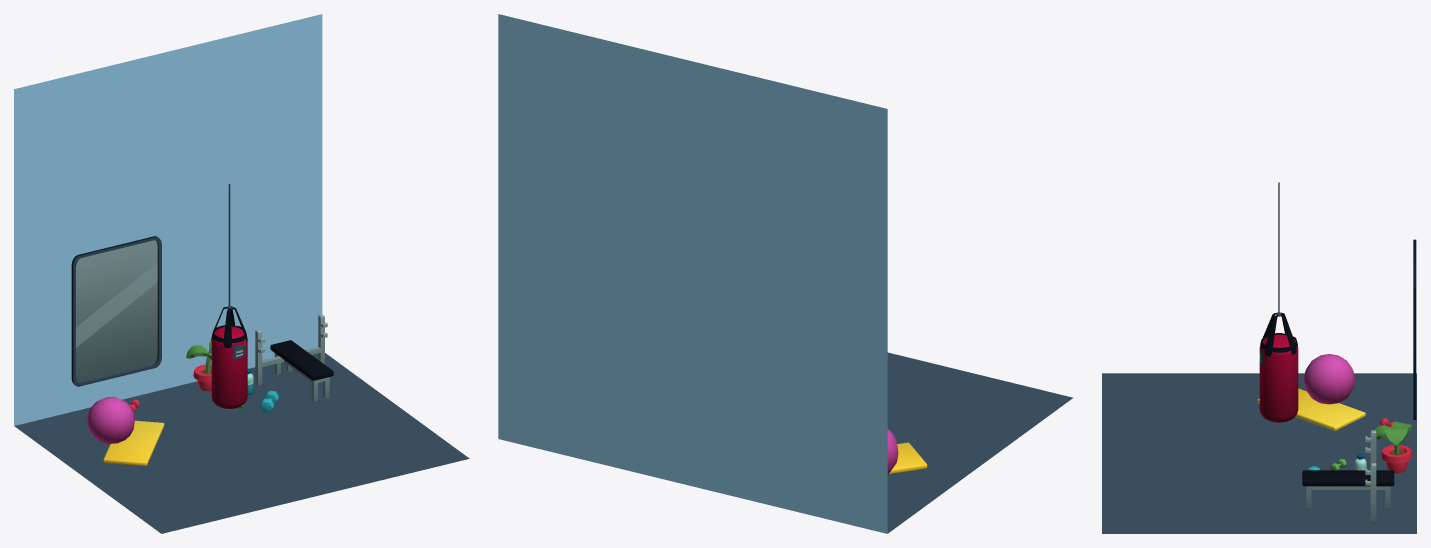
File: Gym.fbx
The picture shows the model from 3 angles, left to right: view 1: azimuth 30°, elevation 25°; view 2: azimuth 150°, elevation 25°; view 3: azimuth 270°, elevation 25°; orthographic projection. The views are drawn at different scales.
Visible parts, largest first — view 1: GymWall, Mirror, BenchPress, PunchingBag, PilatesBall, YogaMat, PunchingBagHolder, Plant04.003; view 2: GymWall, YogaMat; view 3: GymWall, PunchingBag, BenchPress, PilatesBall, YogaMat, Plant04.003, PunchingBagHolder, Mirror.
Part boxes in pixels (bbox=[...]): GymWall: bbox=[14, 14, 469, 533]; Mirror: bbox=[71, 236, 161, 386]; BenchPress: bbox=[255, 314, 333, 402]; PunchingBag: bbox=[211, 326, 247, 408]; PilatesBall: bbox=[87, 396, 134, 444]; YogaMat: bbox=[103, 420, 164, 466]; PunchingBagHolder: bbox=[211, 184, 247, 347]; Plant04.003: bbox=[186, 339, 211, 391]; GymWall: bbox=[498, 14, 1073, 533]; YogaMat: bbox=[888, 442, 927, 474]; GymWall: bbox=[1102, 373, 1416, 533]; PunchingBag: bbox=[1259, 334, 1298, 422]; BenchPress: bbox=[1302, 430, 1394, 523]; PilatesBall: bbox=[1303, 354, 1355, 404]; YogaMat: bbox=[1257, 388, 1365, 430]; Plant04.003: bbox=[1375, 421, 1413, 473]; PunchingBagHolder: bbox=[1260, 182, 1297, 356]; Mirror: bbox=[1413, 239, 1416, 419].
Size of the model in its own units: 1963 by 2257 by 1626.
